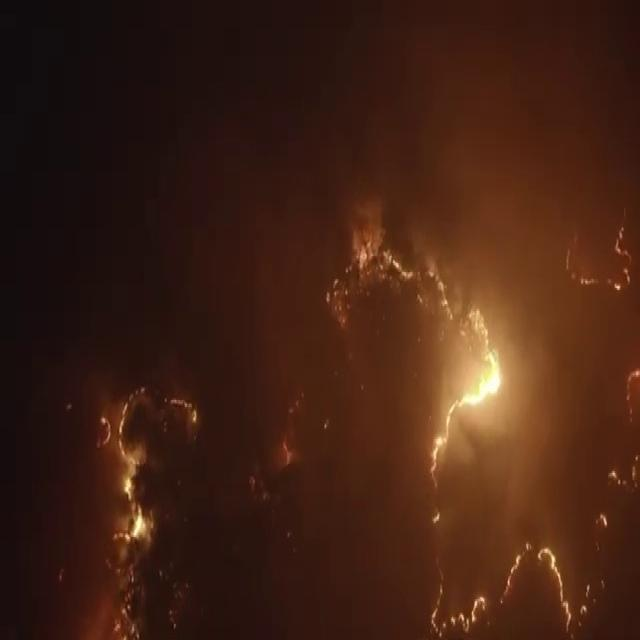Fire: (428, 348, 503, 482), (360, 240, 451, 313), (119, 389, 146, 496), (538, 544, 574, 624), (432, 586, 483, 634), (502, 538, 532, 605), (460, 306, 490, 353), (172, 398, 200, 425), (121, 512, 146, 542)
